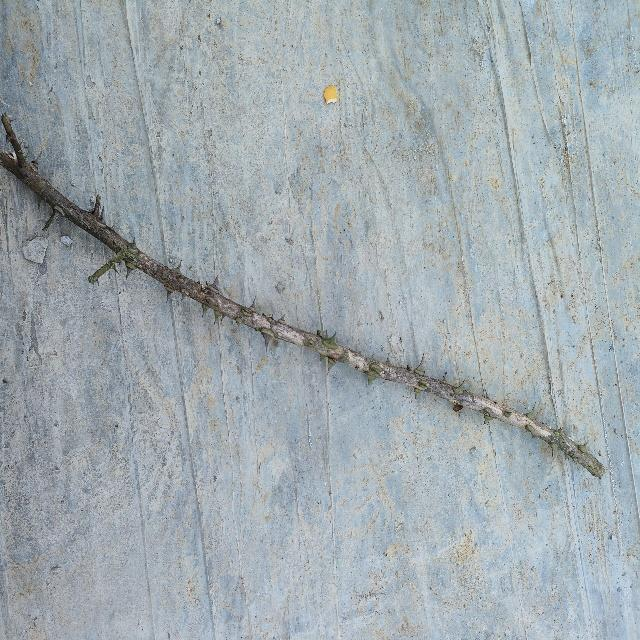branch: (0, 114, 604, 476)
